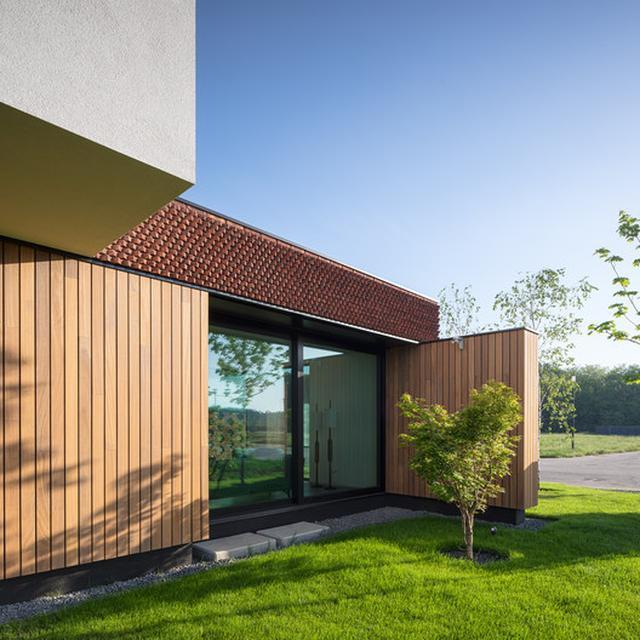building: (0, 0, 546, 589)
